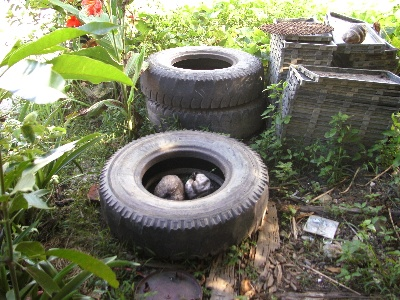plate: (298, 63, 400, 87)
tire: (96, 128, 272, 262), (135, 47, 268, 108), (143, 99, 271, 141)
